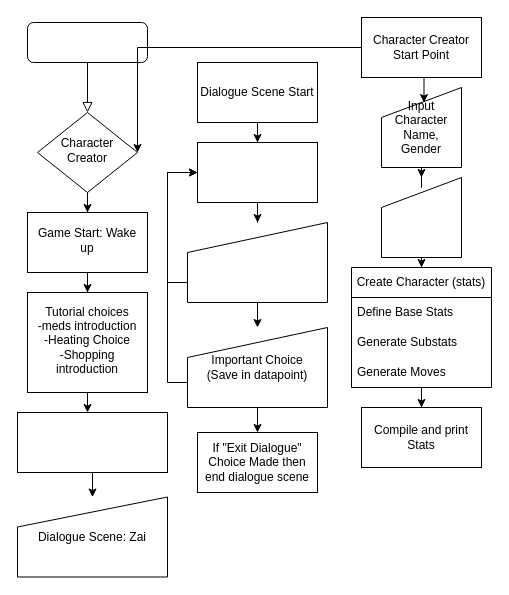
The diagram is 509 pixels wide and 595 high, and some of its shapes have lost their labels. Each missing label, with the centre of its shape:
"Dialogue Choice" belongs at (257,262).
"Print Text Print Dialogue Options" belongs at (257,172).
"Start Point" belongs at (87,42).
"Stats, Background" belongs at (421,217).
"Tutorial Scene: -Digital Interface Menus -Hacking Practice -Print Newsfeed" belongs at (92,442).
